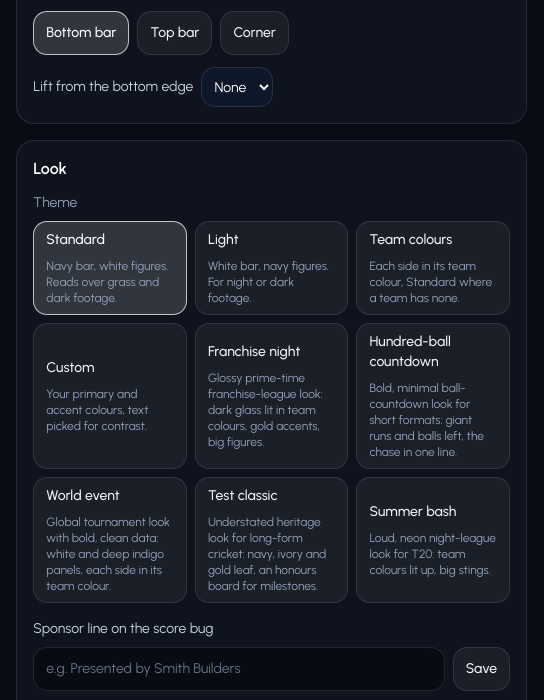
it: ControlClient › picks themes from the shared list
The width and height of the screenshot is (544, 700).
(page scrolled)
Click the button "Custom". click: (110, 396)
box: [33, 323, 187, 469]
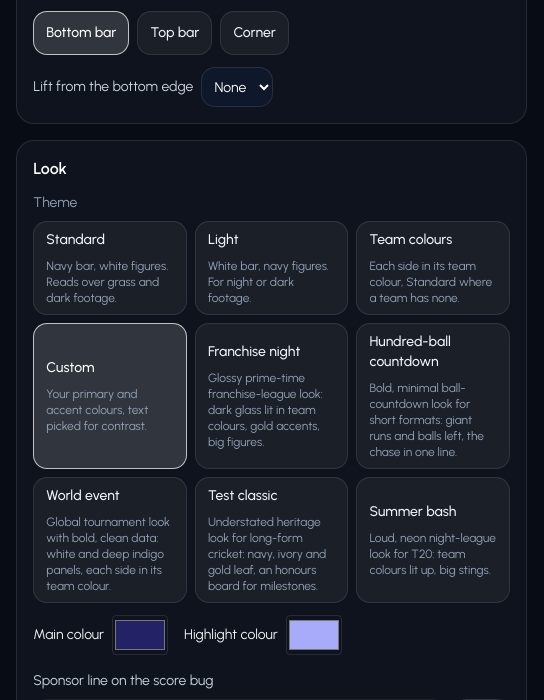
Check: the colour field labelled "Main colour" is shown, box [112, 615, 168, 655]
